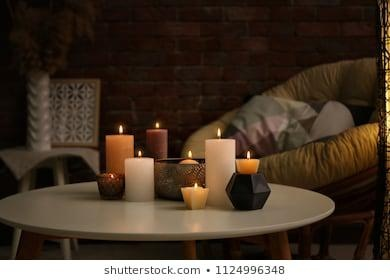fire: (211, 123, 224, 140), (114, 121, 125, 135), (241, 147, 253, 159), (184, 147, 193, 158)
